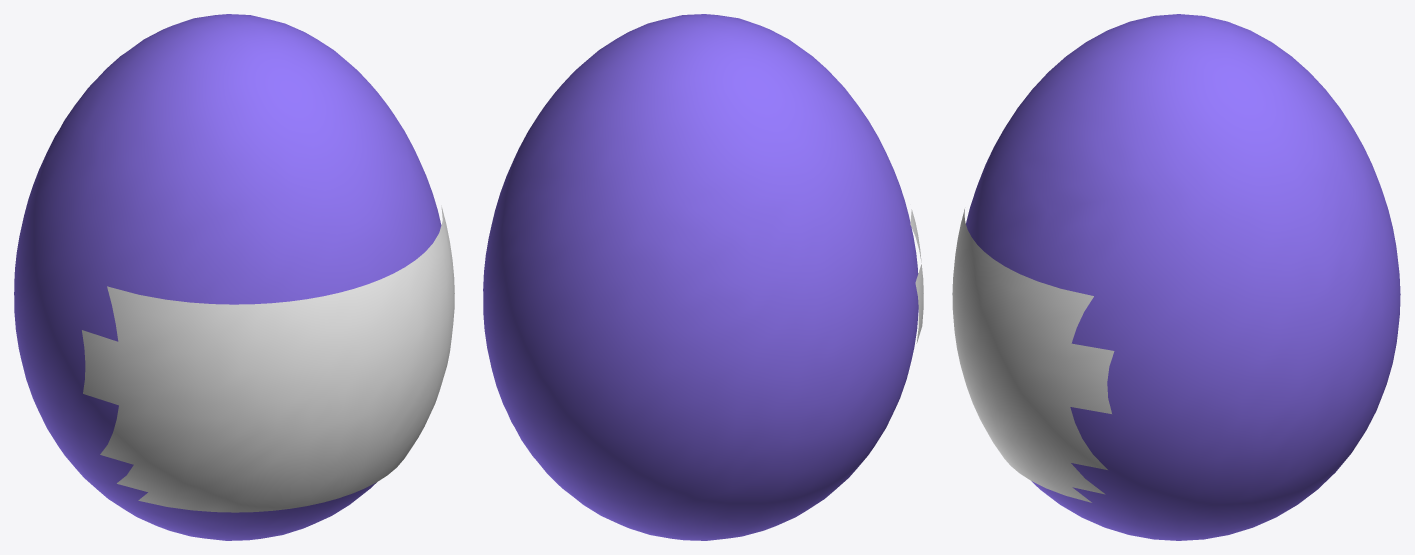
The model's file is head-oval.glb.
3 renders of one model, left to right at view 1: azimuth 30°, elevation 25°; view 2: azimuth 150°, elevation 25°; view 3: azimuth 270°, elevation 25°, orthographic.
Parts seen in each view (by area): view 1: head-oval-mesh, face; view 2: head-oval-mesh, face; view 3: head-oval-mesh, face.
Boxes of the visible parts, left/top/right/bottom form: head-oval-mesh: left=14, top=14, right=441, bottom=540; face: left=82, top=205, right=454, bottom=512; head-oval-mesh: left=483, top=14, right=918, bottom=540; face: left=910, top=209, right=923, bottom=343; head-oval-mesh: left=966, top=14, right=1400, bottom=540; face: left=952, top=209, right=1114, bottom=502.
Size of the model in its own units: 1.08 by 1.36 by 1.12.
